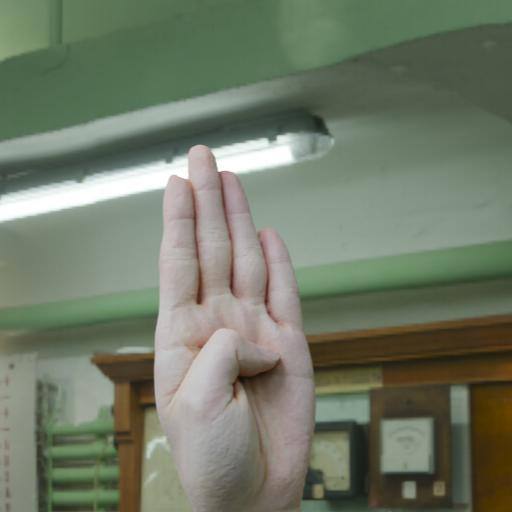B: (136, 137, 336, 512)
